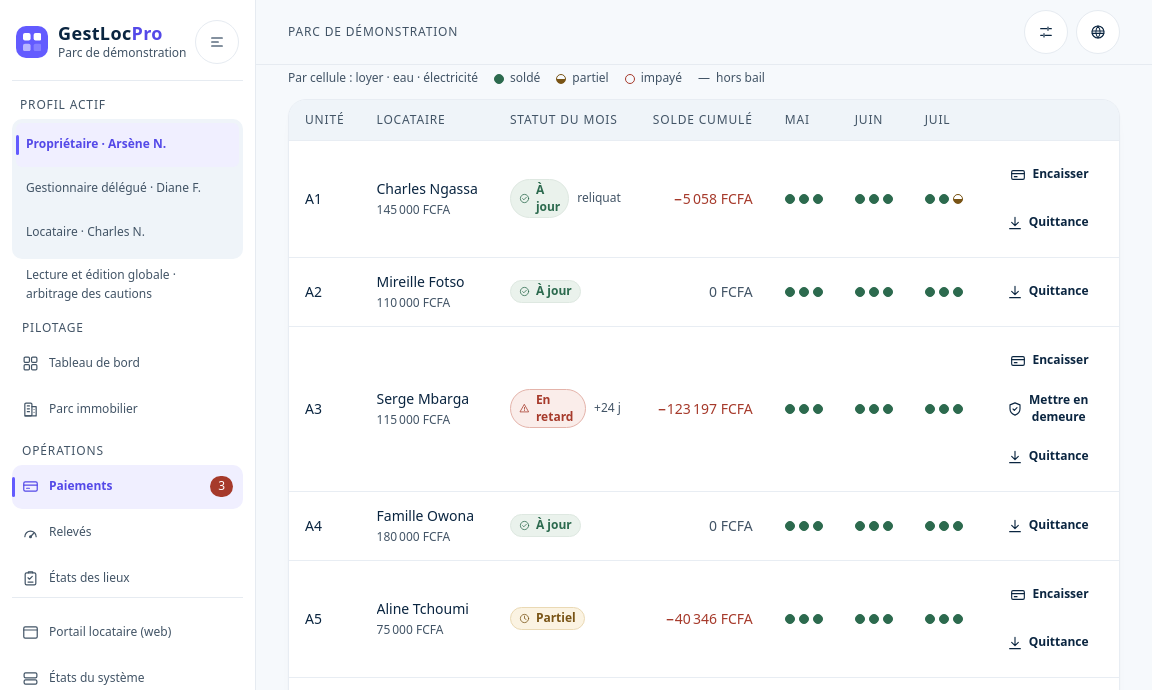
encaisser depuis la ligne › ouvre la saisie SUR CE LOGEMENT
The image size is (1152, 690).
(page scrolled)
Click the 2nd button "Encaisser": (1050, 361) left=997, top=339, right=1103, bottom=383
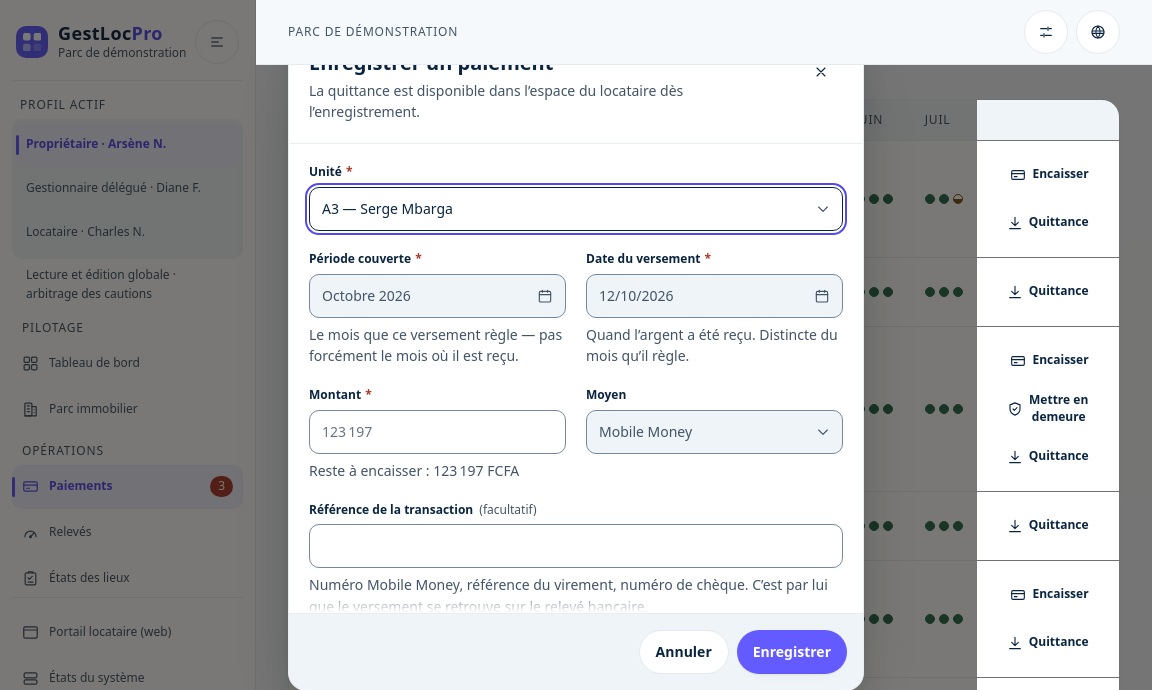
Check: the dropdown showing "A3" is shown, box left=309, top=187, right=843, bottom=231
